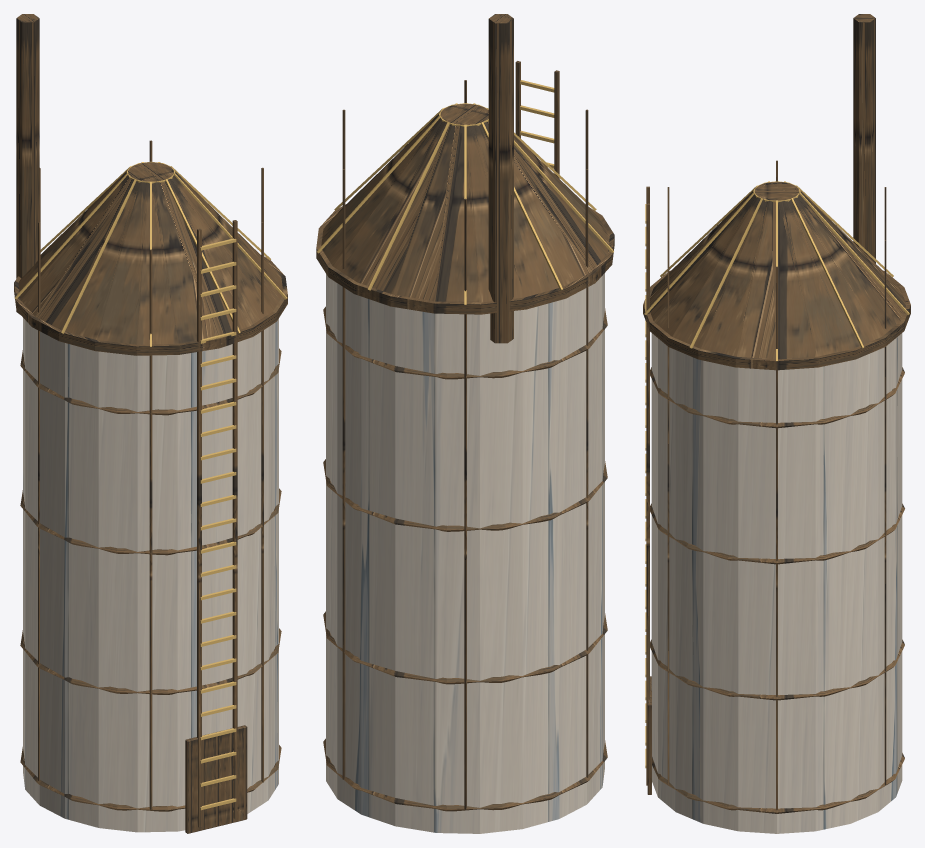
Rendered from silo.glb.
3 views of the same model, side by side, from view 1: azimuth 30°, elevation 25°; view 2: azimuth 150°, elevation 25°; view 3: azimuth 270°, elevation 25° (orthographic). The views are drawn at different scales.
Parts seen in each view (by area): view 1: Concrete drum, Standing seam roof, Grain exhaust flue, Service door, Cap cornice, Ladder rail.001, Ladder rail, Drum seam.002, Drum seam.001, Compression band.001, Compression band.003, Compression band.002 (+4 smaller); view 2: Concrete drum, Standing seam roof, Grain exhaust flue, Cap cornice, Drum seam.005, Drum seam.003, Drum seam.004, Compression band.003, Compression band, Compression band.002, Compression band.001, Roof seam.007 (+2 smaller); view 3: Concrete drum, Standing seam roof, Grain exhaust flue, Cap cornice, Ladder rail.001, Drum seam.001, Drum seam.005, Compression band.003, Compression band.001, Compression band.002, Compression band, Drum seam (+3 smaller).
Part boxes in pixels (x1,y1,x2,y2): Concrete drum: [23, 318, 278, 832]; Standing seam roof: [18, 162, 283, 344]; Grain exhaust flue: [16, 14, 39, 314]; Service door: [185, 725, 247, 833]; Cap cornice: [14, 256, 287, 355]; Ladder rail.001: [232, 220, 237, 818]; Ladder rail: [197, 228, 201, 827]; Drum seam.002: [149, 249, 152, 809]; Drum seam.001: [261, 222, 263, 782]; Compression band.001: [20, 628, 281, 694]; Compression band.003: [20, 348, 281, 415]; Compression band.002: [20, 488, 281, 555]; Concrete drum: [326, 273, 604, 833]; Standing seam roof: [321, 104, 609, 302]; Grain exhaust flue: [488, 14, 513, 343]; Cap cornice: [316, 204, 614, 314]; Drum seam.005: [342, 169, 345, 779]; Drum seam.003: [585, 169, 588, 777]; Drum seam.004: [464, 198, 466, 809]; Compression band.003: [323, 306, 607, 379]; Compression band: [323, 738, 607, 811]; Compression band.002: [323, 459, 607, 531]; Compression band.001: [323, 611, 607, 684]; Roof seam.007: [368, 122, 449, 290]; Concrete drum: [651, 333, 902, 833]; Standing seam roof: [650, 181, 906, 359]; Grain exhaust flue: [853, 14, 875, 263]; Cap cornice: [643, 270, 910, 370]; Ladder rail.001: [646, 203, 649, 785]; Drum seam.001: [667, 240, 669, 784]; Drum seam.005: [884, 240, 886, 784]; Compression band.003: [650, 367, 904, 428]; Compression band.001: [650, 639, 904, 700]; Compression band.002: [650, 503, 904, 564]; Compression band: [652, 753, 904, 813]; Drum seam: [776, 266, 777, 809].
Size of what is drawn, in the model's own units: 10.73 by 32 by 10.7.
Materials: 4 (3 with a texture image).
